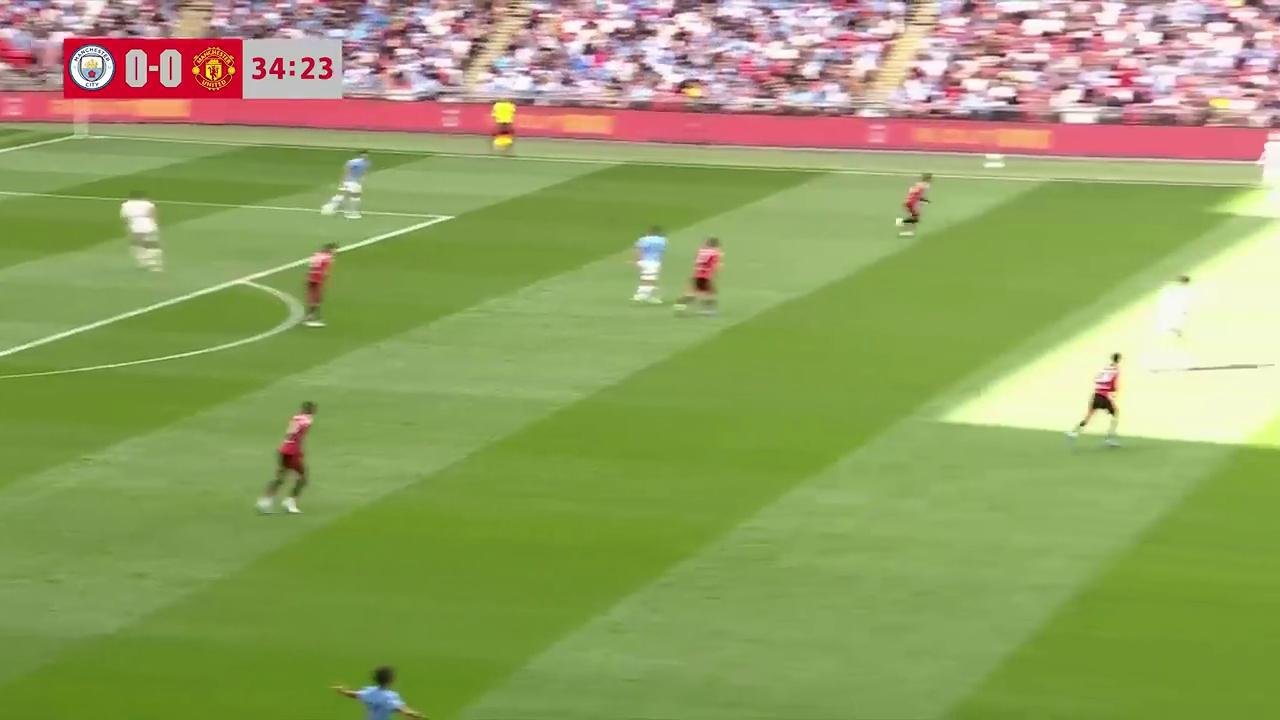player: (254, 400, 316, 514), (1069, 351, 1124, 442), (677, 237, 724, 313), (120, 194, 164, 271), (324, 150, 370, 217), (628, 226, 667, 303), (1153, 278, 1192, 345), (302, 245, 332, 327), (895, 176, 932, 237), (1260, 140, 1280, 218)
referee: (491, 98, 516, 155)
